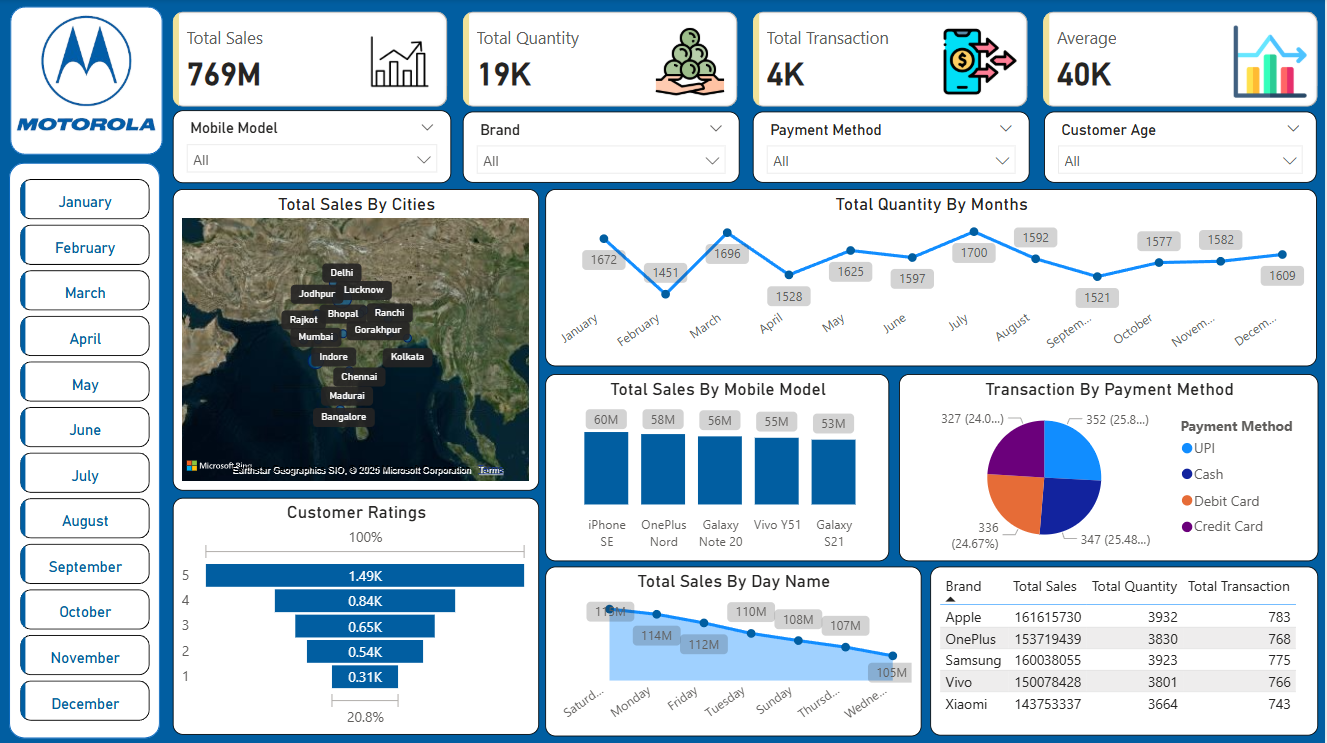

Layout of this report page (visuals, bound fields, positions):
{"tool":"powerbi","page":{"name":"Page 1","canvas":[1280,720],"ordinal":0},"visuals":[{"type":"group","id":"g1","title":"Group 1","box":[11.4,0,147.1,160],"z":0},{"type":"shape","box":[11.4,7,147.1,143.1],"z":0,"group":"g1"},{"type":"shape","box":[10,157.5,145.7,555.7],"z":0,"group":"g2"},{"type":"image","box":[11.4,0,147.1,143.1],"z":1000,"group":"g1"},{"type":"group","id":"g2","title":"Group 1","box":[10,157.5,145.7,555.7],"z":1000},{"type":"advancedSlicerVisual","fields":{"Values":["Sales_Data.Date.Variation.Date Hierarchy.Month"]},"box":[15.7,168.6,135.7,538.6],"z":2000},{"type":"cardVisual","fields":{"Data":["Sales_Data.Total Sales","Sales_Data.Total Quantity","Sales_Data.Total Transaction","Sales_Data.Average"]},"box":[163,7,1117,102],"z":3000},{"type":"map","title":"Total Sales By Cities","fields":{"Category":["Sales_Data.City"],"Size":["Sales_Data.Total Sales"]},"box":[167.8,183.3,353.3,291.1],"z":4000},{"type":"lineChart","title":"Total Quantity By Months","fields":{"Y":["Sales_Data.Total Quantity"],"Category":["Sales_Data.Date.Variation.Date Hierarchy.Month","Sales_Data.Date.Variation.Date Hierarchy.Day"]},"box":[526.7,183.3,744.4,171.1],"z":5000},{"type":"clusteredColumnChart","title":"Total Sales By Mobile Model","fields":{"Category":["Sales_Data.Mobile Model"],"Y":["Sales_Data.Total Sales"]},"box":[526.9,362.3,332.1,181.1],"z":6000},{"type":"pieChart","title":"Transaction By Payment Method","fields":{"Category":["Sales_Data.Payment Method"],"Y":["Sales_Data.Total Transaction"]},"box":[868.6,362.3,404.8,181.1],"z":7000},{"type":"funnel","title":"Customer Ratings","fields":{"Category":["Sales_Data.Customer Ratings"],"Y":["CountNonNull(Sales_Data.Customer Ratings)"]},"box":[167.8,481.1,353.3,228.9],"z":8000},{"type":"areaChart","title":"Total Sales By Day Name","fields":{"Category":["Sales_Data.Day Name"],"Y":["Sales_Data.Total Sales"]},"box":[527.1,547.1,362.9,164.3],"z":9000},{"type":"tableEx","fields":{"Values":["Sales_Data.Brand","Sales_Data.Total Sales","Sales_Data.Total Quantity","Sales_Data.Total Transaction"]},"box":[898.8,547.5,374.6,163.3],"z":10000},{"type":"slicer","fields":{"Values":["Sales_Data.Mobile Model"]},"box":[167.3,107.3,268.7,70],"z":11000},{"type":"slicer","fields":{"Values":["Sales_Data.Customer Age"]},"box":[1008.6,108.4,263.5,68.6],"z":12000},{"type":"slicer","fields":{"Values":["Sales_Data.Payment Method"]},"box":[727.1,108.6,267.1,68.6],"z":13000},{"type":"slicer","fields":{"Values":["Sales_Data.Brand"]},"box":[447.3,108.7,267.3,68.7],"z":14000}]}

Visuals, with their boxes in screenshot pixels (x1, y1, x2, y2), scaled from the page's 1280x720 canvas onto the 1327x743 screenshot:
"Group 1" group: (12, 0, 164, 165)
shape: (12, 7, 164, 155)
shape: (10, 163, 161, 736)
image: (12, 0, 164, 148)
"Group 1" group: (10, 163, 161, 736)
advancedSlicerVisual - Sales_Data.Date.Variation.Date Hierarchy.Month: (16, 174, 157, 730)
cardVisual - Sales_Data.Total Sales x Sales_Data.Total Quantity: (169, 7, 1326, 112)
"Total Sales By Cities" map: (174, 189, 540, 490)
"Total Quantity By Months" lineChart: (546, 189, 1318, 366)
"Total Sales By Mobile Model" clusteredColumnChart: (546, 374, 891, 561)
"Transaction By Payment Method" pieChart: (900, 374, 1320, 561)
"Customer Ratings" funnel: (174, 496, 540, 733)
"Total Sales By Day Name" areaChart: (546, 565, 923, 734)
tableEx - Sales_Data.Brand x Sales_Data.Total Sales: (932, 565, 1320, 734)
slicer - Sales_Data.Mobile Model: (173, 111, 452, 183)
slicer - Sales_Data.Customer Age: (1046, 112, 1319, 183)
slicer - Sales_Data.Payment Method: (754, 112, 1031, 183)
slicer - Sales_Data.Brand: (464, 112, 741, 183)
